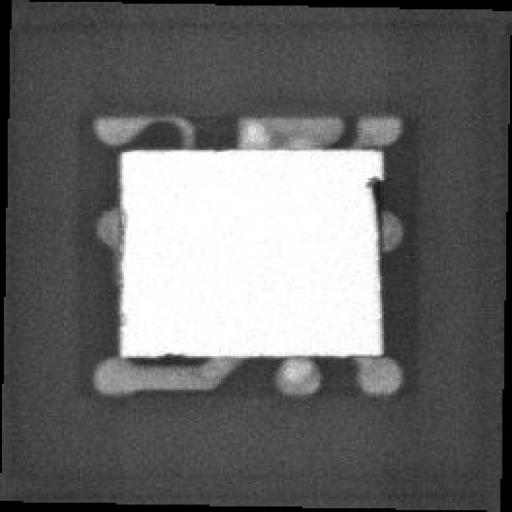DIE_BROKEN: (363, 170, 380, 260)
